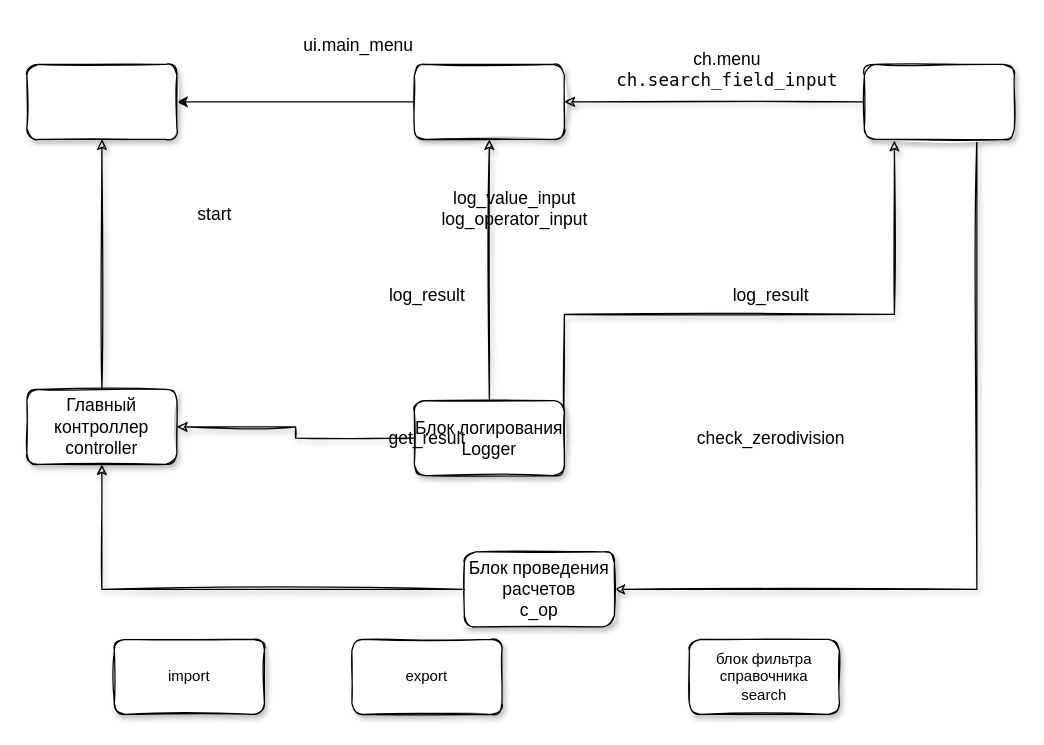
This 1044x745 diagram has some shape labels left out. The shapes that lost their labels are listed below. From the top down, each one's centre as x and y in pixels, then its label:
[102,103]: Главное меню Main
[490,103]: Пользовательский интерфейс UI
[940,103]: Блок проверок Chek
